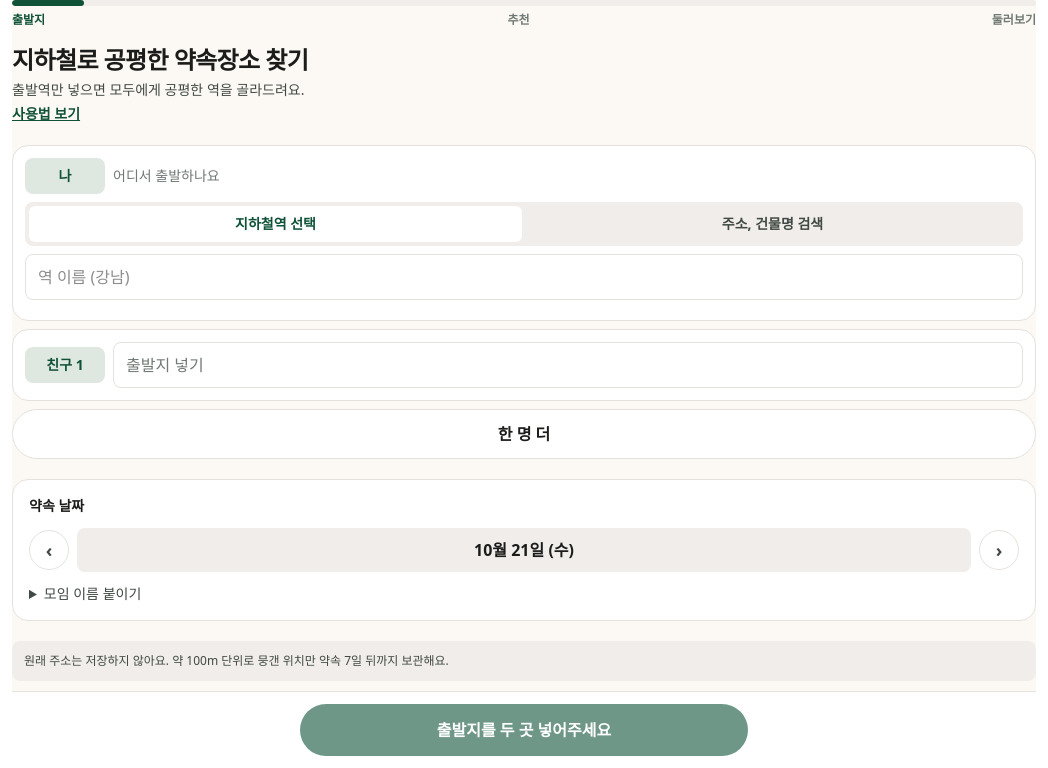
Test: 방을 만들지 못하면 문구를 보여주고 다시 누를 수 있다
Type "강남" into the field named "출발지 검색". click: [524, 277]
box: [25,254,1023,300]
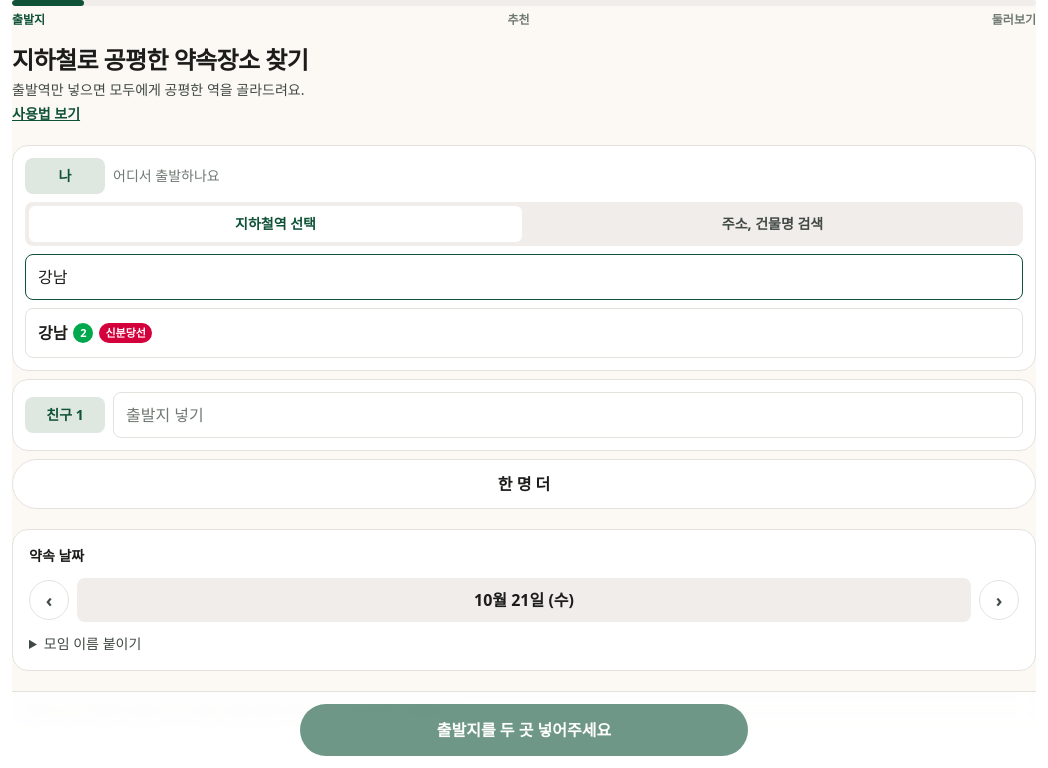
Click the button "강남 2 신분당선". click: [126, 333]
box: [25,308,1023,358]
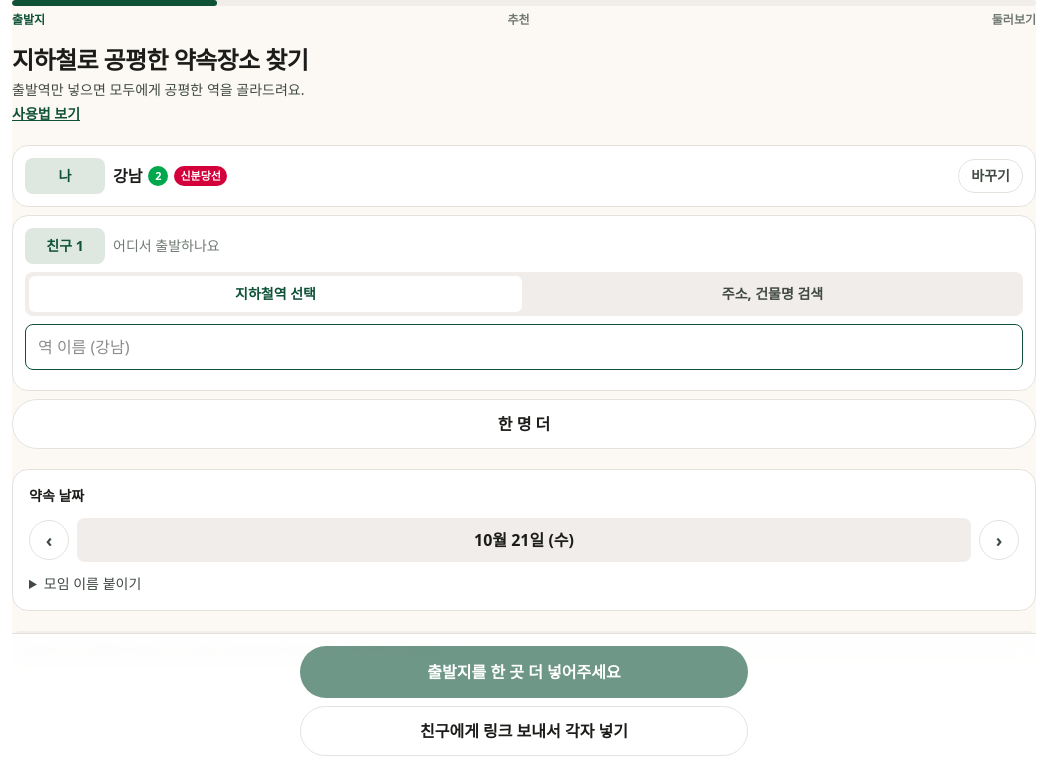
Type "수원" into the field named "출발지 검색". click: [524, 347]
box: [25,324,1023,370]
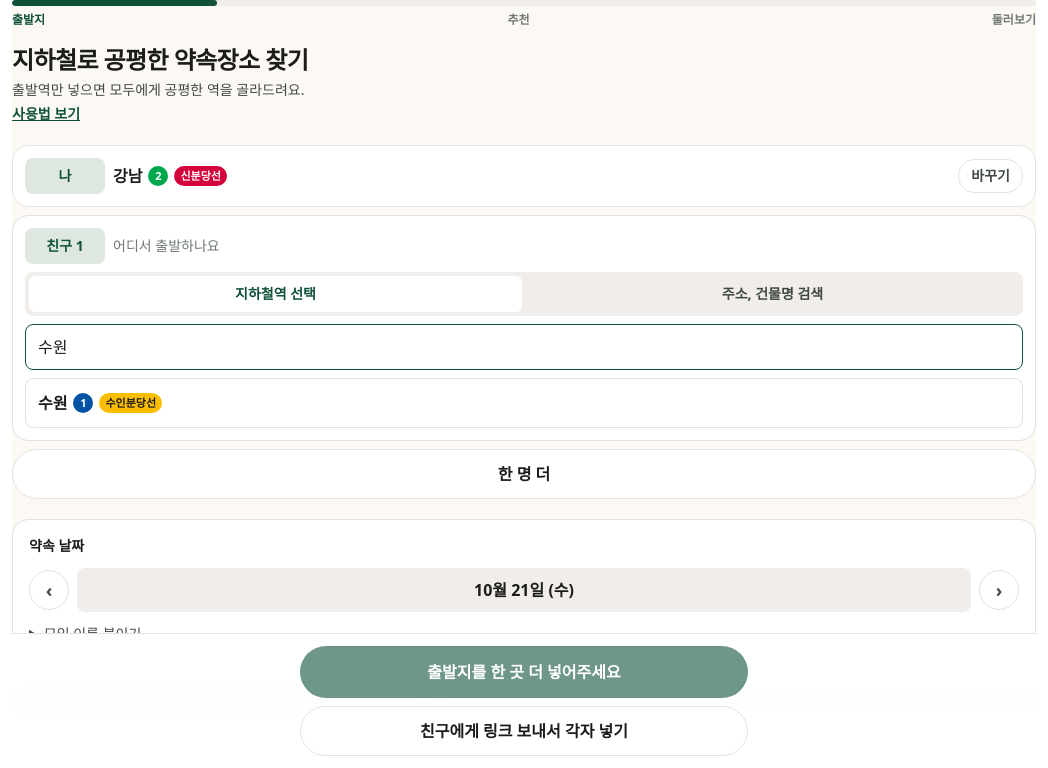
Click the button "수원 1 수인분당선". click: [131, 403]
box: [25,378,1023,428]
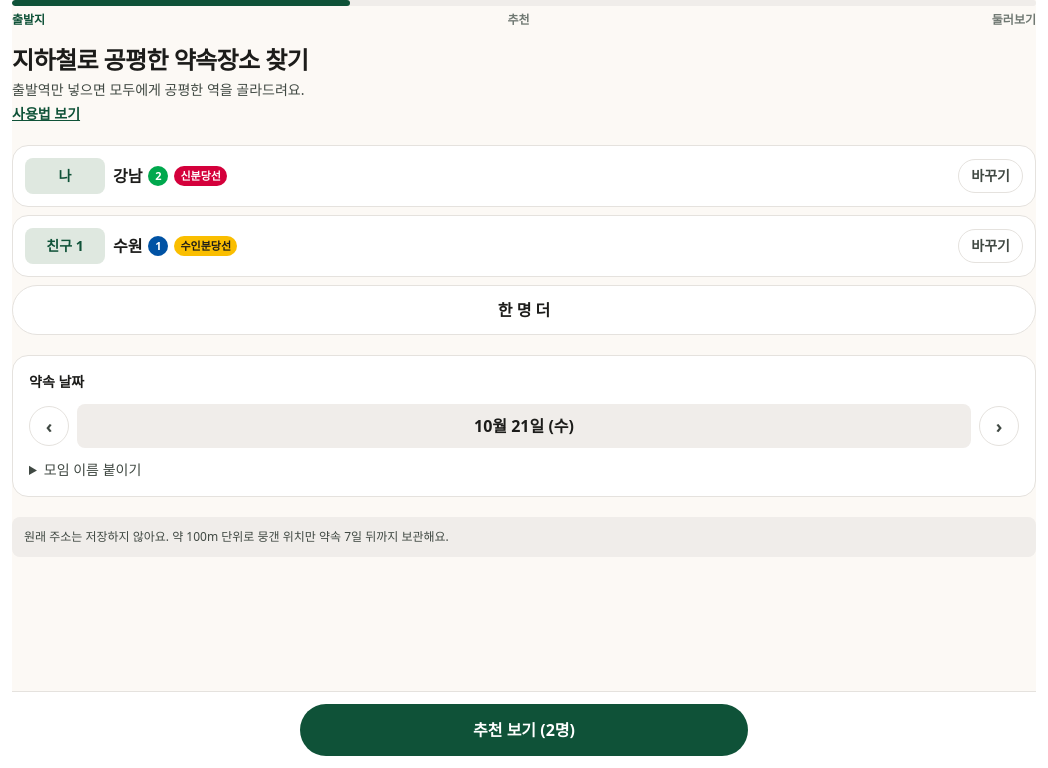
Click the button "추천 보기 (2명)". click: [524, 730]
box: [300,704,748,756]
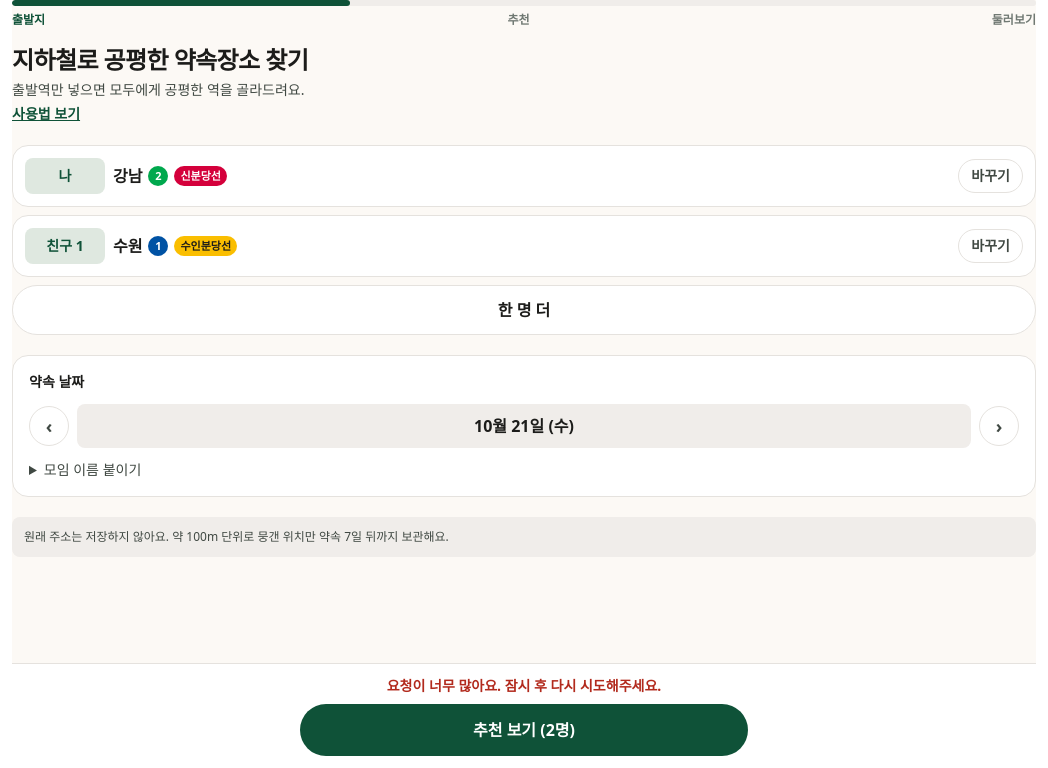
Now the button "추천 보기 (2명)" is enabled, box [300,704,748,756]
Now the message reads "요청이 너무 많아요. 잠시 후 다시 시도해주세요.", box [387,676,661,695]
